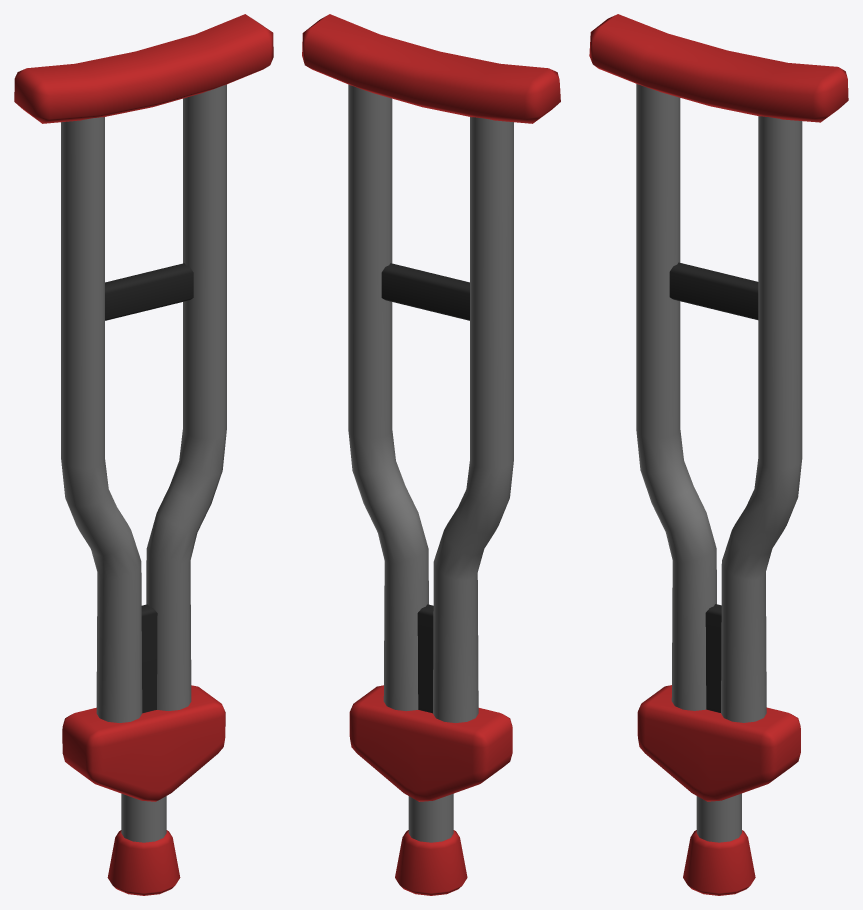
The model's file is crutches_red.fbx.
3 views of the same model, side by side, from view 1: azimuth 30°, elevation 25°; view 2: azimuth 150°, elevation 25°; view 3: azimuth 330°, elevation 25° (orthographic).
Visible parts, largest first — view 1: pCylinder8.001; view 2: pCylinder8.001; view 3: pCylinder8.001.
Part boxes in pixels (<box>): pCylinder8.001: <box>14,14,273,895</box>; pCylinder8.001: <box>302,14,560,895</box>; pCylinder8.001: <box>589,14,848,895</box>.
Size of the model in its own units: 0.4657 by 1.55 by 0.1218.
